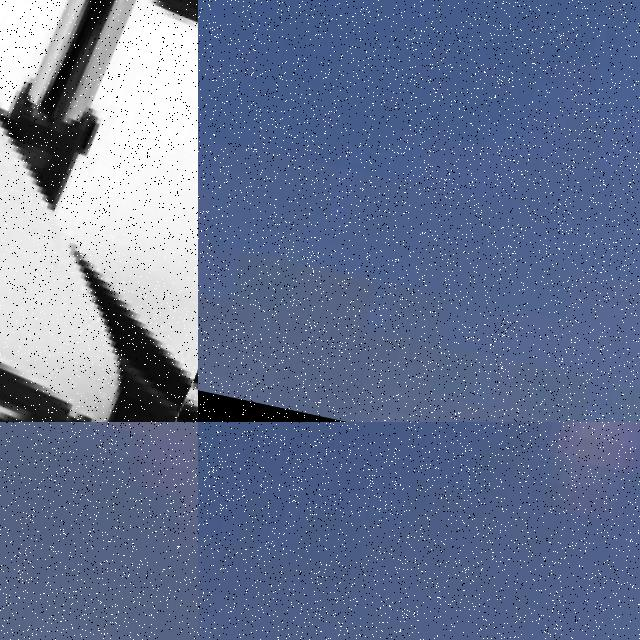drone: (0, 0, 198, 422)
